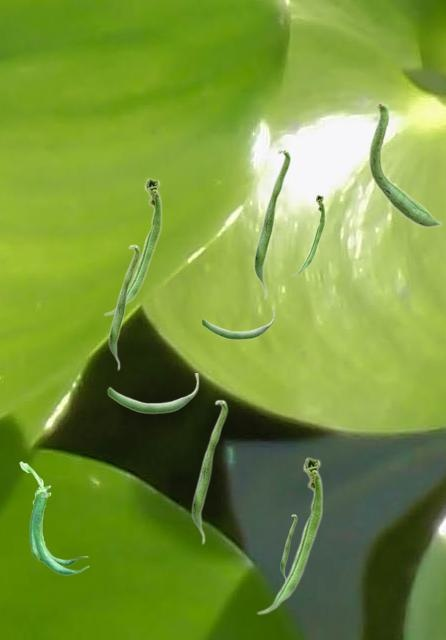french_bean: (256, 456, 322, 614), (368, 101, 441, 227), (103, 177, 161, 315), (19, 461, 88, 574), (253, 148, 290, 299), (191, 399, 227, 544), (108, 244, 139, 370), (107, 373, 198, 413), (291, 194, 324, 275), (201, 307, 274, 339), (280, 514, 296, 578)
